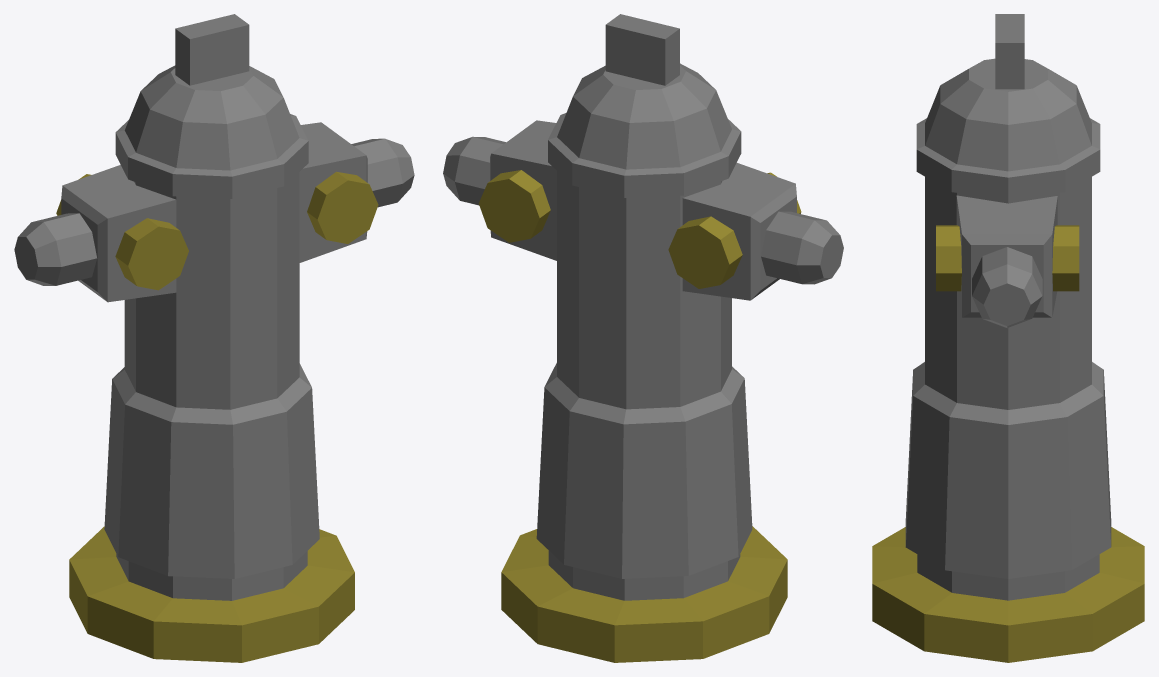
Rendered from SM_firehydrant.fbx.
The picture shows the model from 3 angles, left to right: view 1: azimuth 30°, elevation 25°; view 2: azimuth 150°, elevation 25°; view 3: azimuth 270°, elevation 25°; orthographic projection.
Parts seen in each view (by area): view 1: Cylinder007; view 2: Cylinder007; view 3: Cylinder007.
Boxes of the visible parts, x1,y1,x2,y2 form: Cylinder007: [14, 14, 414, 662]; Cylinder007: [443, 14, 843, 662]; Cylinder007: [872, 14, 1144, 662].
Bounding box in the file's own units: 26.18 × 38.27 × 16.45.
